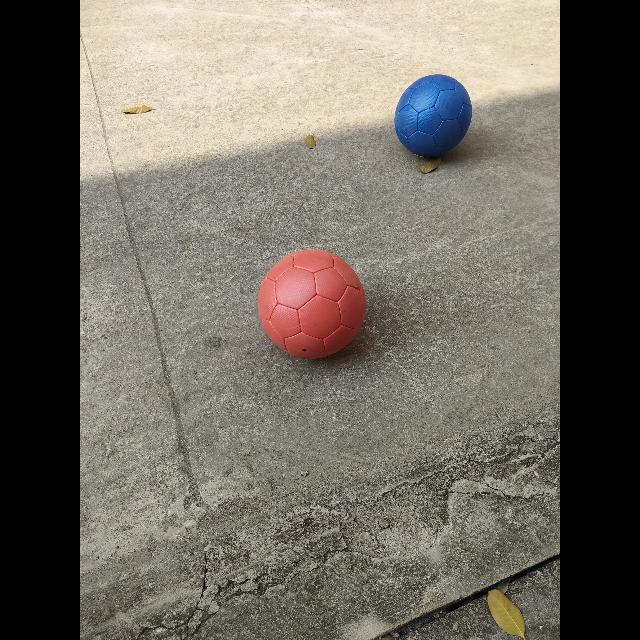B: (393, 75, 474, 160)
R: (257, 250, 366, 362)
